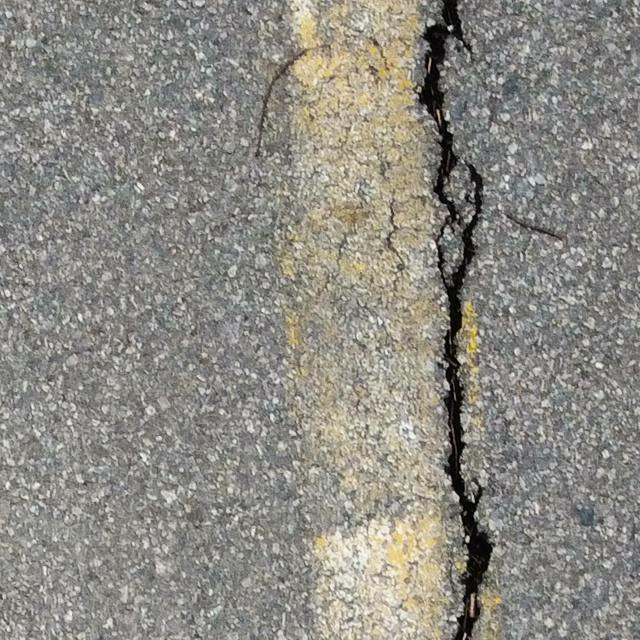LongitudinalCrack: (413, 1, 496, 640)
